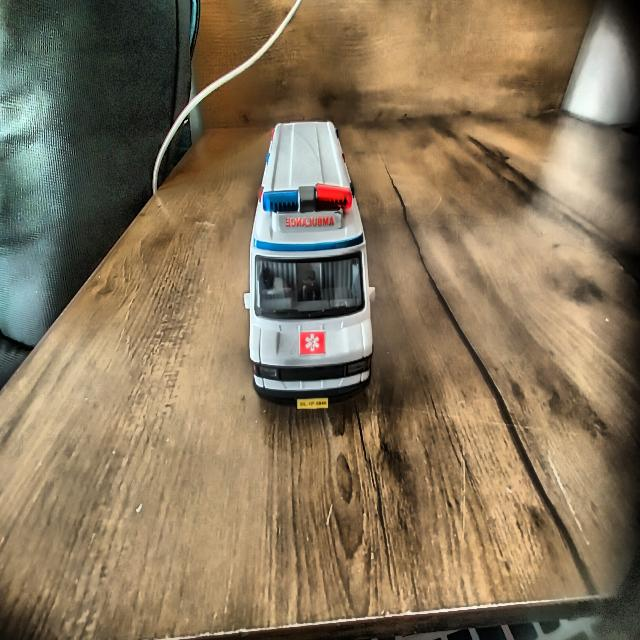Ambulance: (244, 122, 374, 407), (260, 184, 353, 228), (300, 331, 325, 355)
